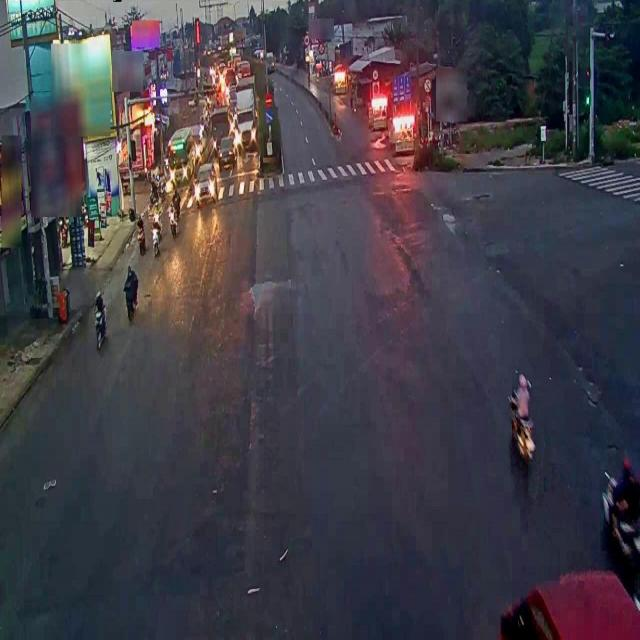motorcycle: (508, 367, 536, 472), (90, 284, 108, 352), (122, 264, 140, 321)
